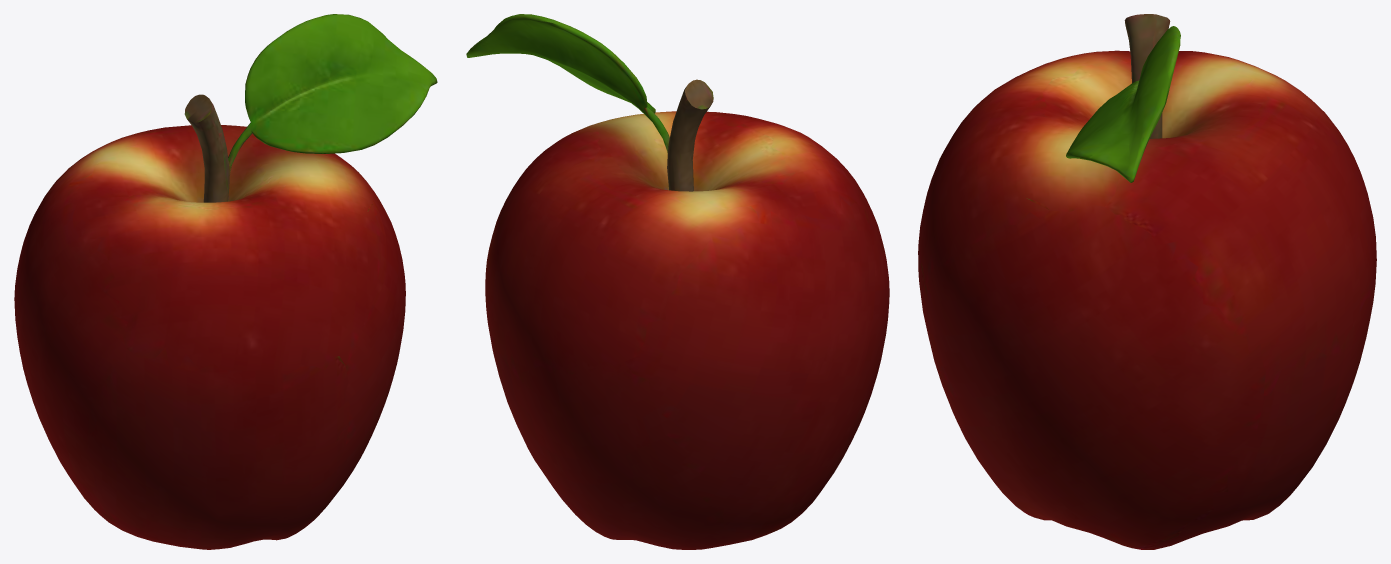
Rendered from manzana.glb.
3 views of the same model, side by side, from view 1: azimuth 30°, elevation 25°; view 2: azimuth 150°, elevation 25°; view 3: azimuth 270°, elevation 25° (orthographic). The views are drawn at different scales.
Parts seen in each view (by area): view 1: objeto; view 2: objeto; view 3: objeto.
Part boxes in pixels (box(x1,y1,x2,y2)): objeto: box(14, 14, 437, 549); objeto: box(466, 14, 889, 549); objeto: box(918, 14, 1376, 549).
Bounding box in the file's own units: 0.8945 × 1 × 0.778.
1 material, 1 textured.
